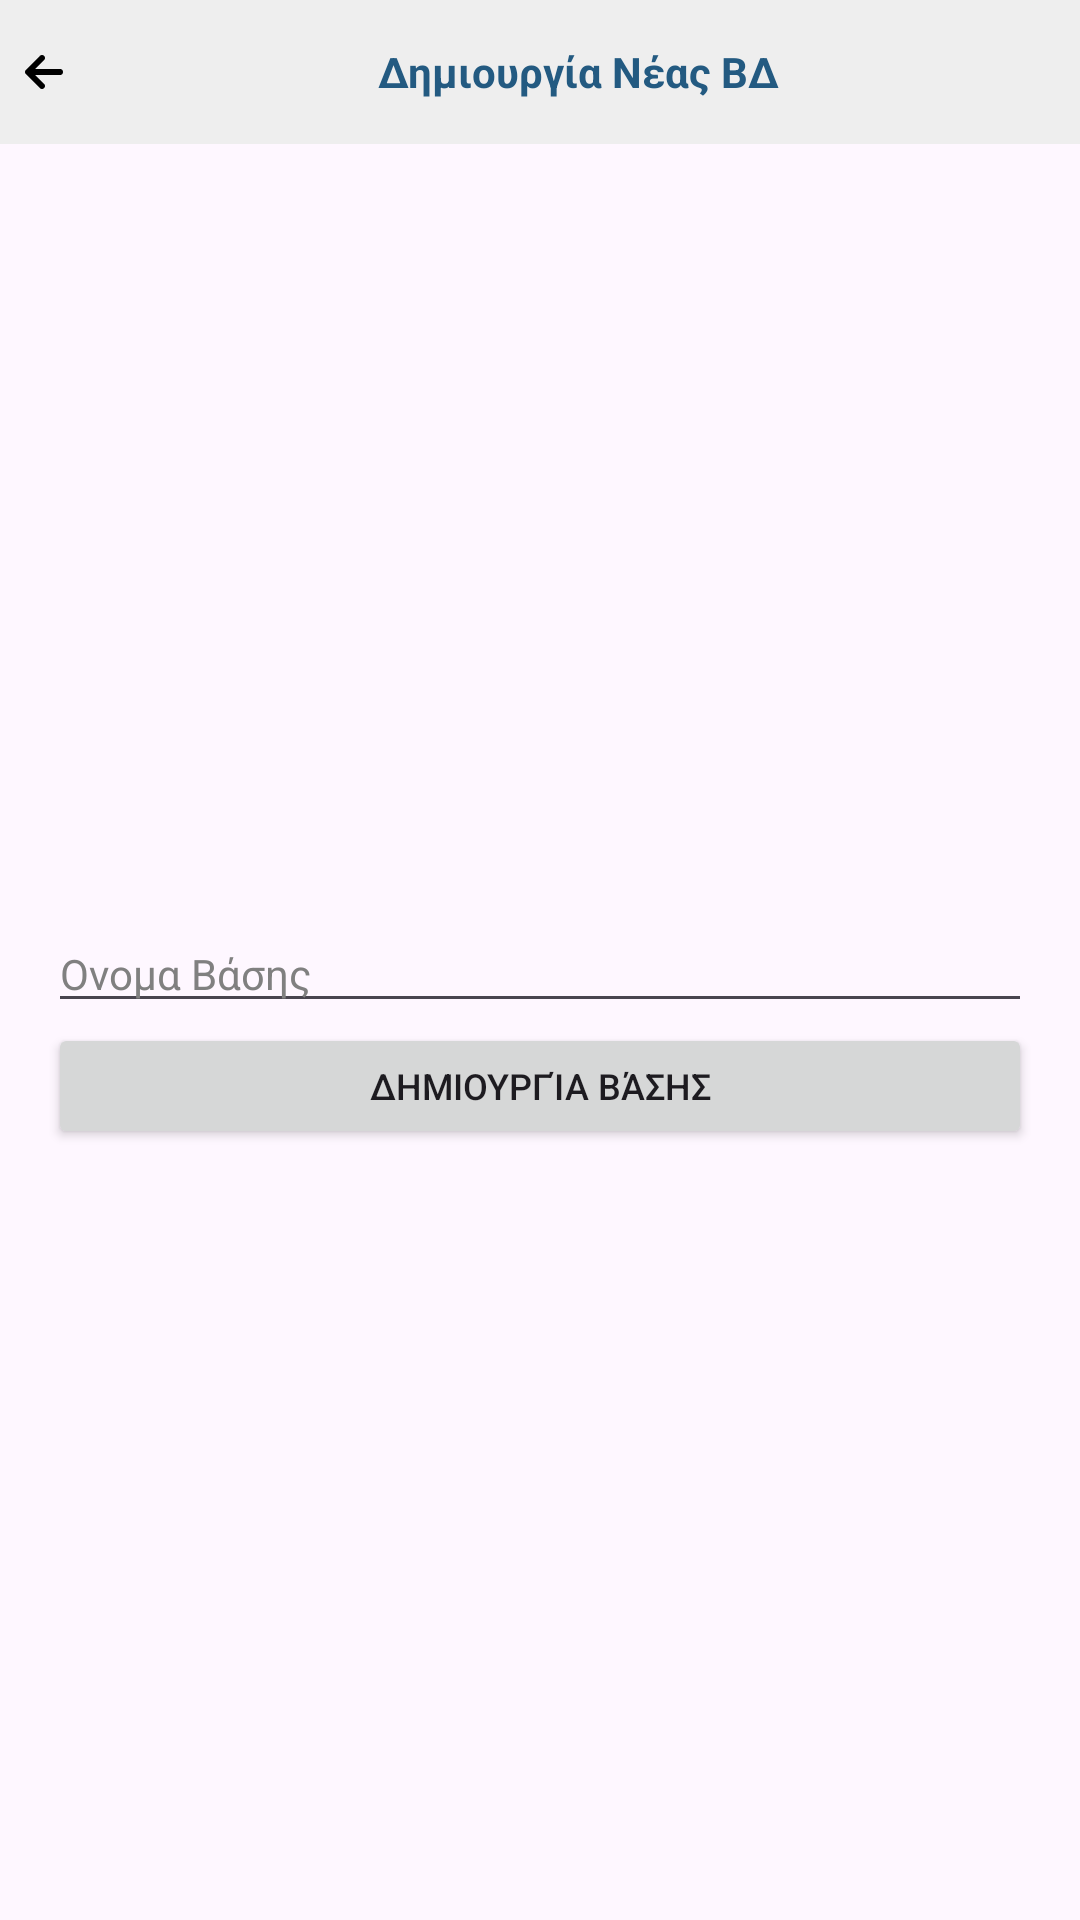

Point at icon controls on the screen. Image size 1080 × 1920, points as (x=x, y=y).
left arrow: (x=44, y=72)
